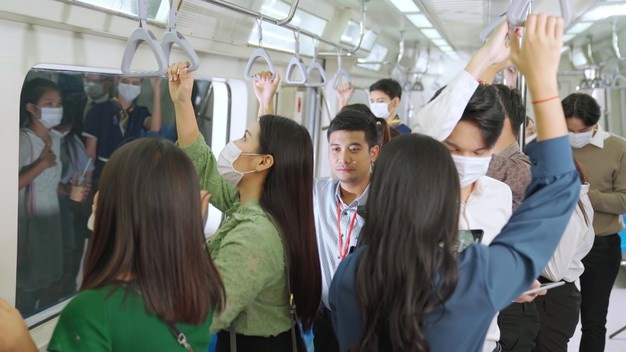with_mask: (439, 122, 492, 188), (213, 118, 256, 182), (564, 117, 599, 149), (368, 94, 392, 119)
without_mask: (328, 129, 370, 181)
